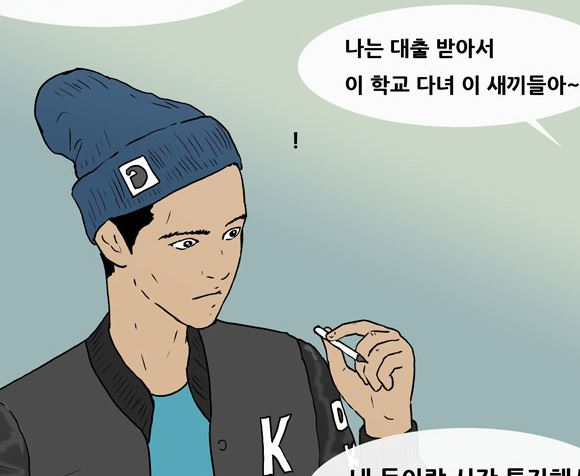hat: (31, 59, 251, 216)
